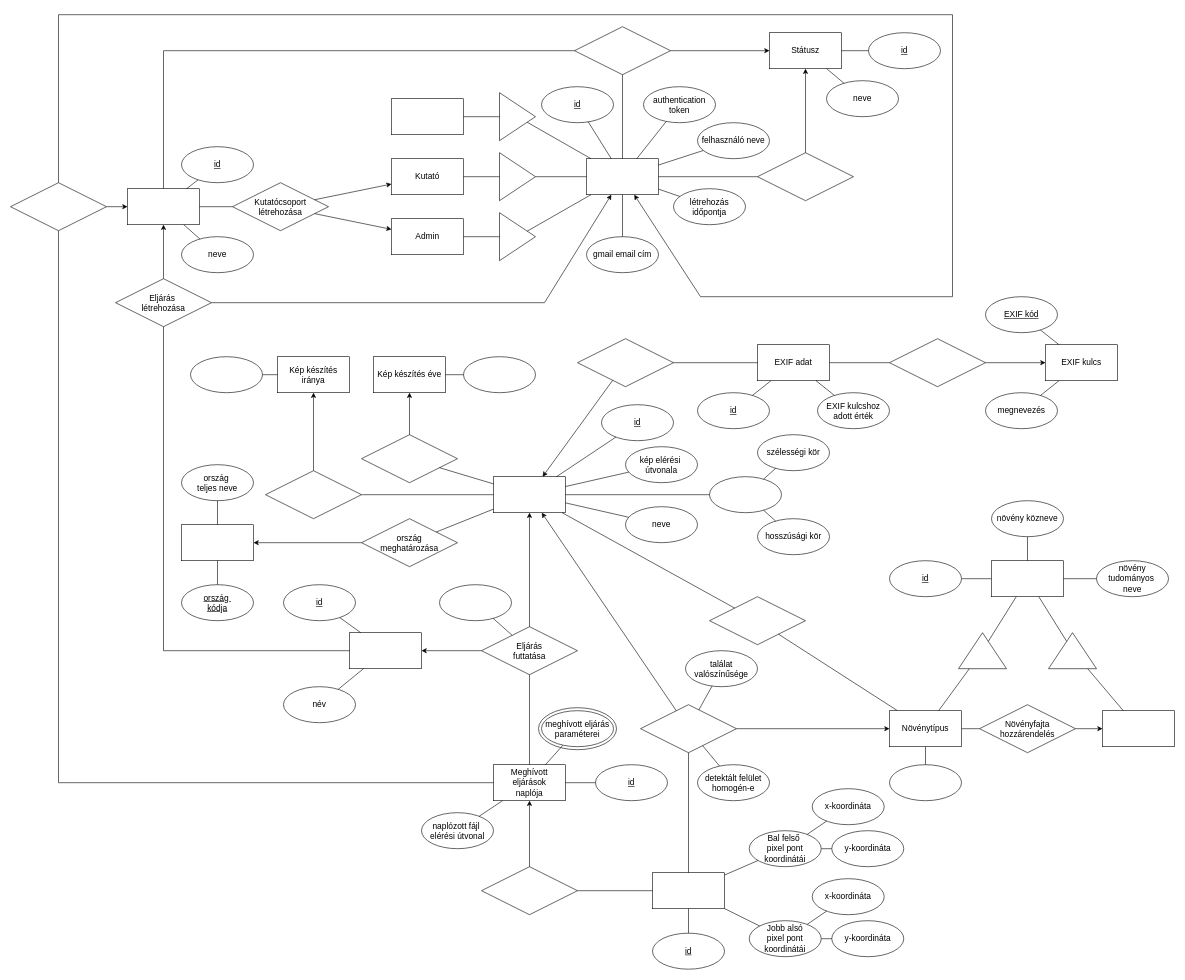
This 1185x980 diagram has some shape labels left out. Each missing label, with the centre of its shape:
"Befoglaló Téglalap" goes at (688,890).
"Befoglaló téglalap generálása" goes at (529,890).
"Csatlakozás csoporthoz" goes at (622,50).
"Eljárás" goes at (385,650).
"Eljárás meghívása" goes at (58,206).
"EXIF adatok tartalmazása" goes at (625,362).
"EXIF kulcs Tartalmazás" goes at (937,362).
"Felhasználó" goes at (622,176).
"Felhasználó státusza" goes at (805,176).
"futtatás ideje" goes at (475,602).
"GPS koordináták" goes at (745,494).
"Hallgató" goes at (427,116).
"invazív növény-e" goes at (925,782).
"irány meghatározása" goes at (313,494).
"Irány neve" goes at (226,374).
"Kutatócsoport" goes at (163,206).
"Kép" goes at (529,494).
"Kép készítésének országa" goes at (217,542).
"készítés_éve" goes at (499,374).
"Növényfajta" goes at (1138,728).
"Növénynevek" goes at (1027,578).
"Növénytípus detektálása" goes at (688,728).
"Található" goes at (757,620).
"év meghatározása" goes at (409,458).
